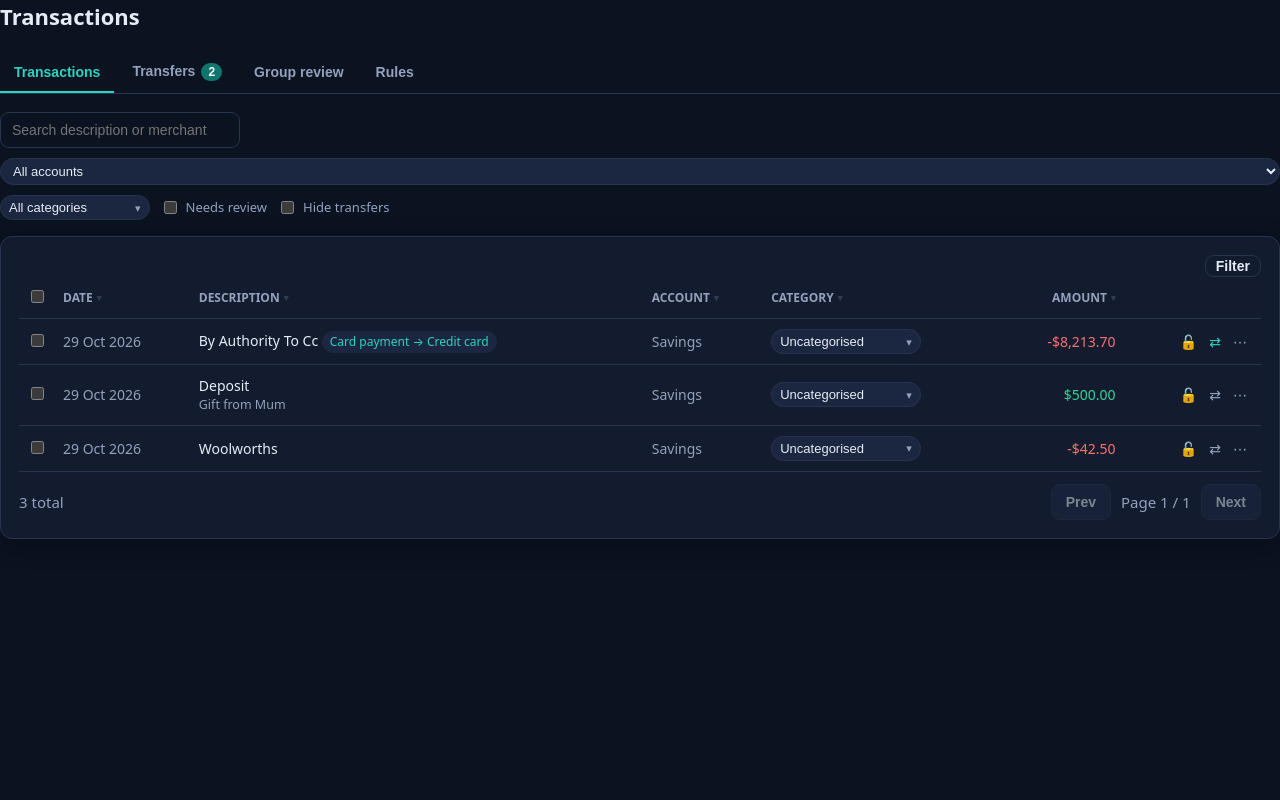
Test: Transactions: the ⋯ window › saves a note on its own without re-filing the category
Expected: the row "29 Oct 2026 Woolworths Savings ▾ -$42.50 🔓 ⇄ ⋯" is shown, top-left (19, 425), bottom-right (1261, 471)
Click the button named "More actions" at point(1240, 449), box top-left (1227, 439), bottom-right (1253, 459)
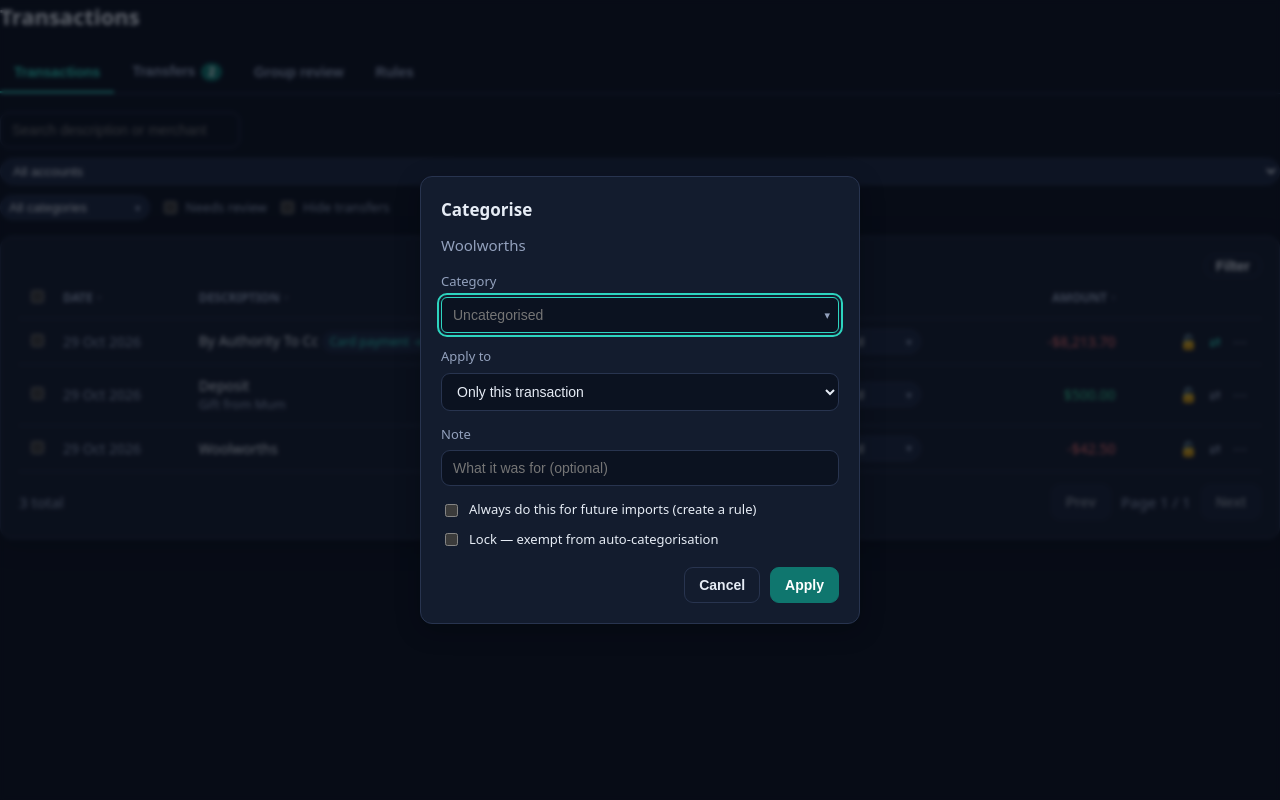
Type "Weekly shop" into the field labelled "Note" at point(640, 468), box top-left (441, 450), bottom-right (839, 486)
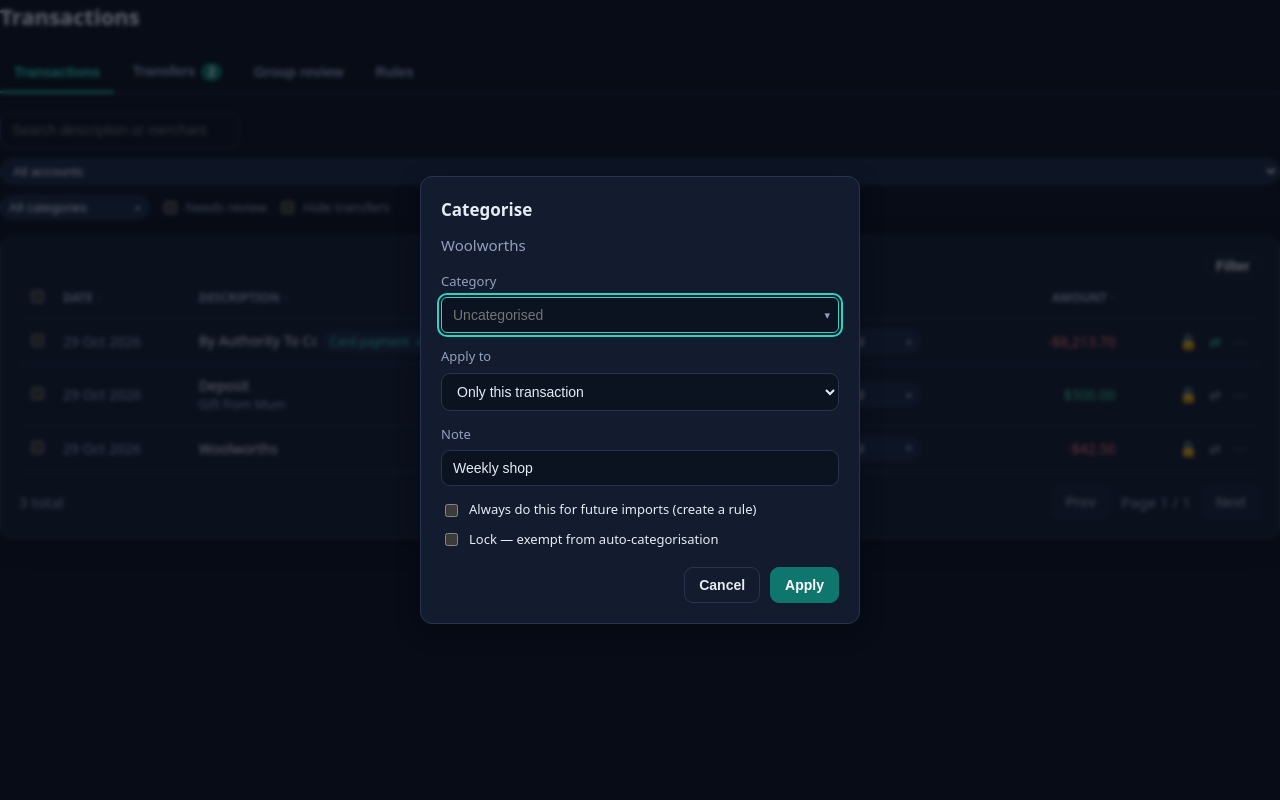
Click the button "Apply" at point(805, 585), box top-left (770, 567), bottom-right (839, 603)
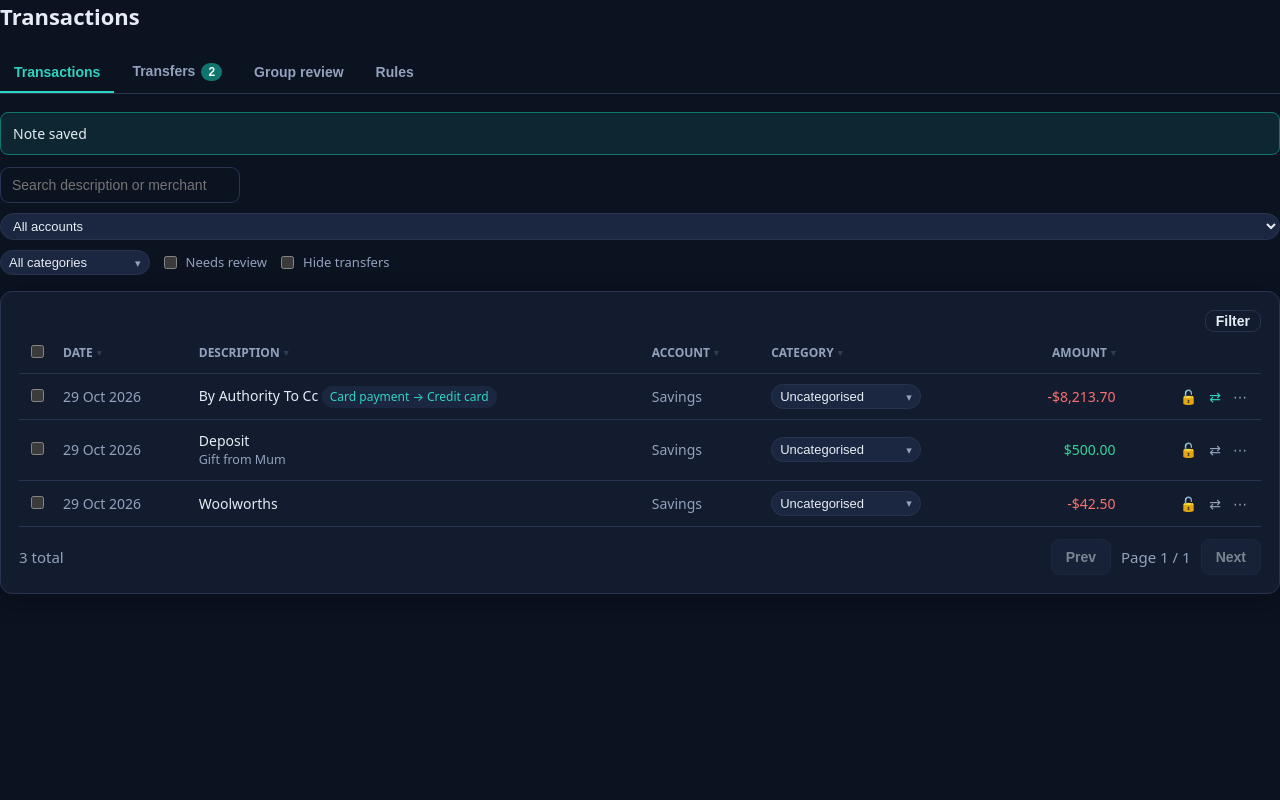
Expected: the text "Note saved" is shown, top-left (0, 112), bottom-right (1279, 155)
